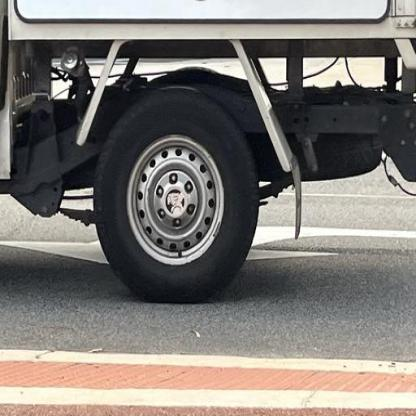Tire: (94, 87, 258, 303)
